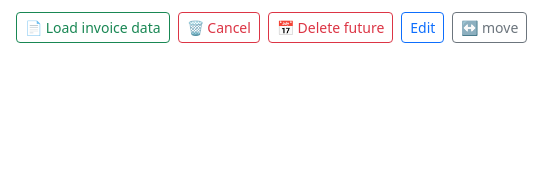
CalendarToastToolbar › disables buttons when loading
Click the button with aria-label "Cancel visit" at x=219, y=28, box [178, 12, 260, 43]
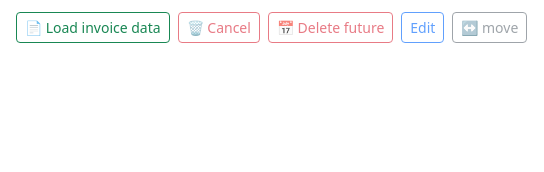
Now the button with aria-label "Cancel visit" is disabled, box [178, 12, 260, 43]
